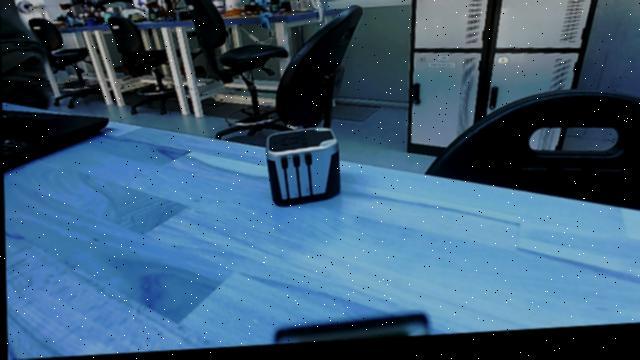adapter: (258, 128, 347, 219)
